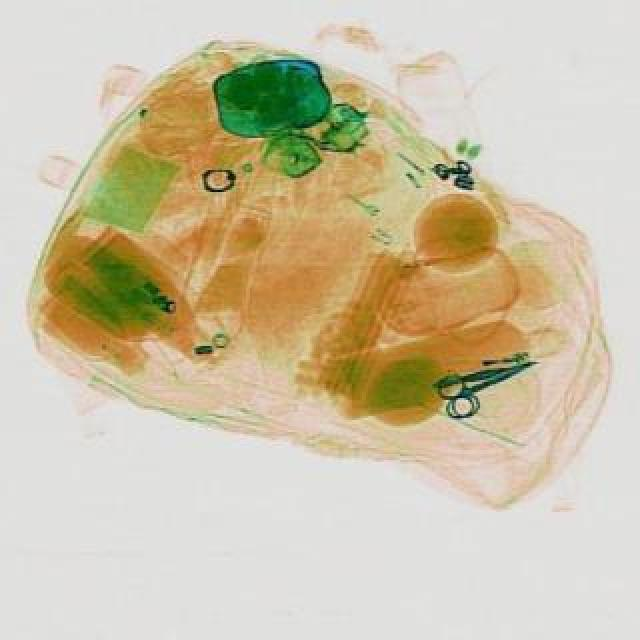pliers: (430, 346, 544, 426)
